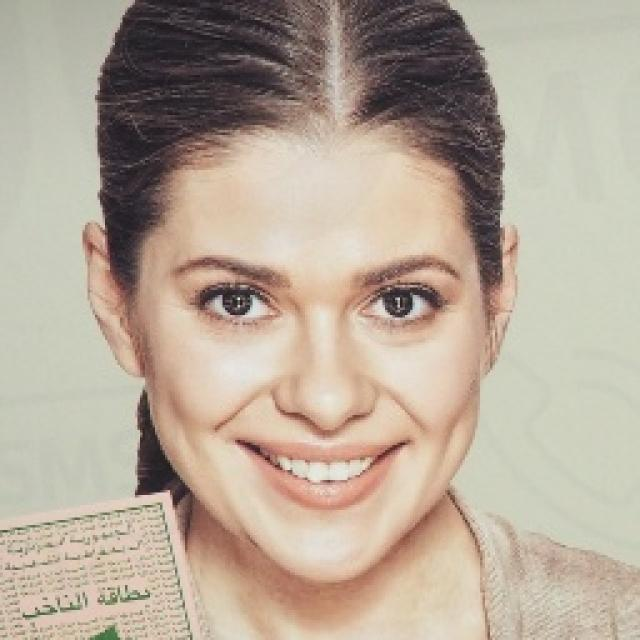earlobe: (80, 222, 145, 378), (481, 223, 522, 378)
